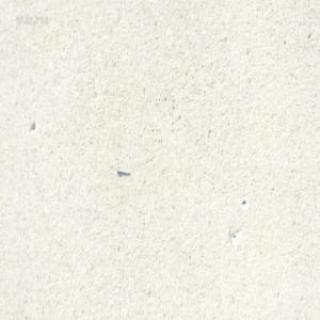Nailtrack_idkeyframe: (115, 165, 129, 174)
